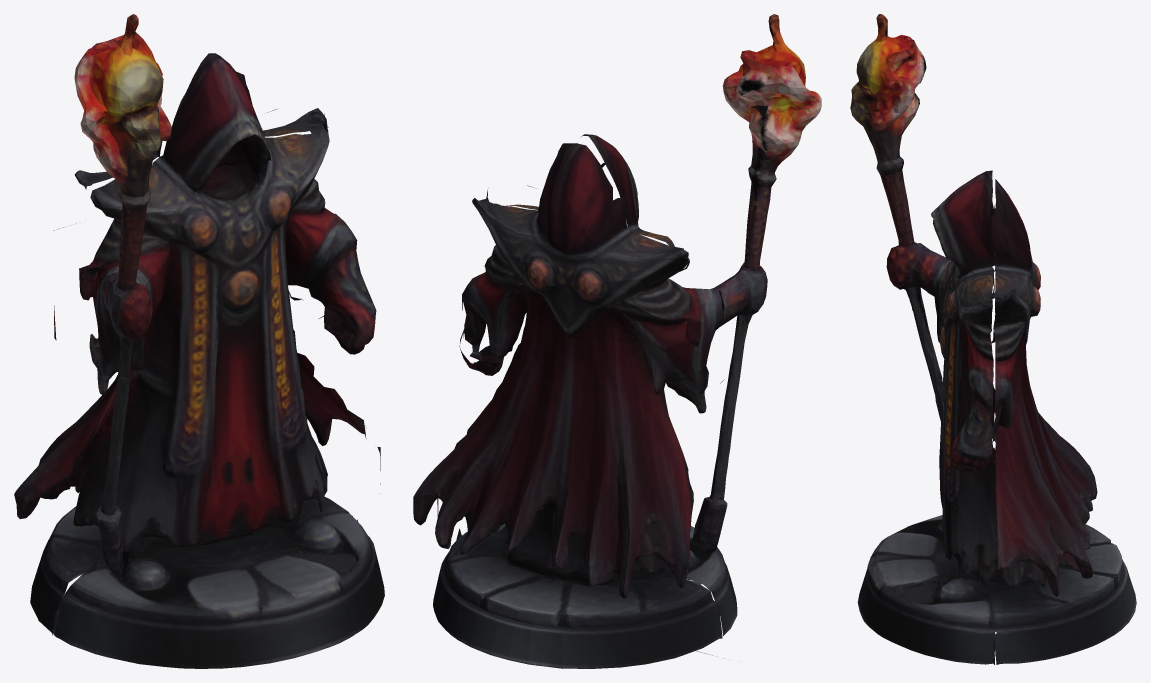
3 views of the same model, side by side, from view 1: azimuth 30°, elevation 25°; view 2: azimuth 150°, elevation 25°; view 3: azimuth 270°, elevation 25° (orthographic). The views are drawn at different scales.
Visible parts, largest first — view 1: bB.glb; view 2: bB.glb; view 3: bB.glb.
Part boxes in pixels (bbox=[...]): bB.glb: bbox=[14, 14, 384, 668]; bB.glb: bbox=[413, 14, 821, 668]; bB.glb: bbox=[850, 14, 1136, 664].
Bounding box in the file's own units: 0.4128 × 0.736 × 0.3456.
1 material, 1 textured.
